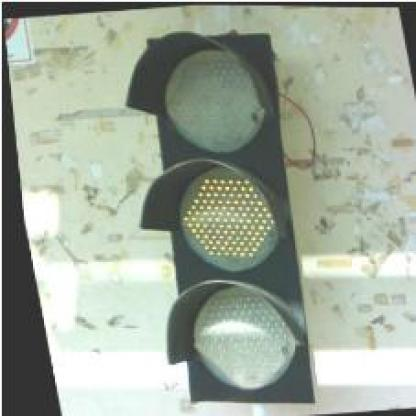yellow: (103, 25, 329, 411)
